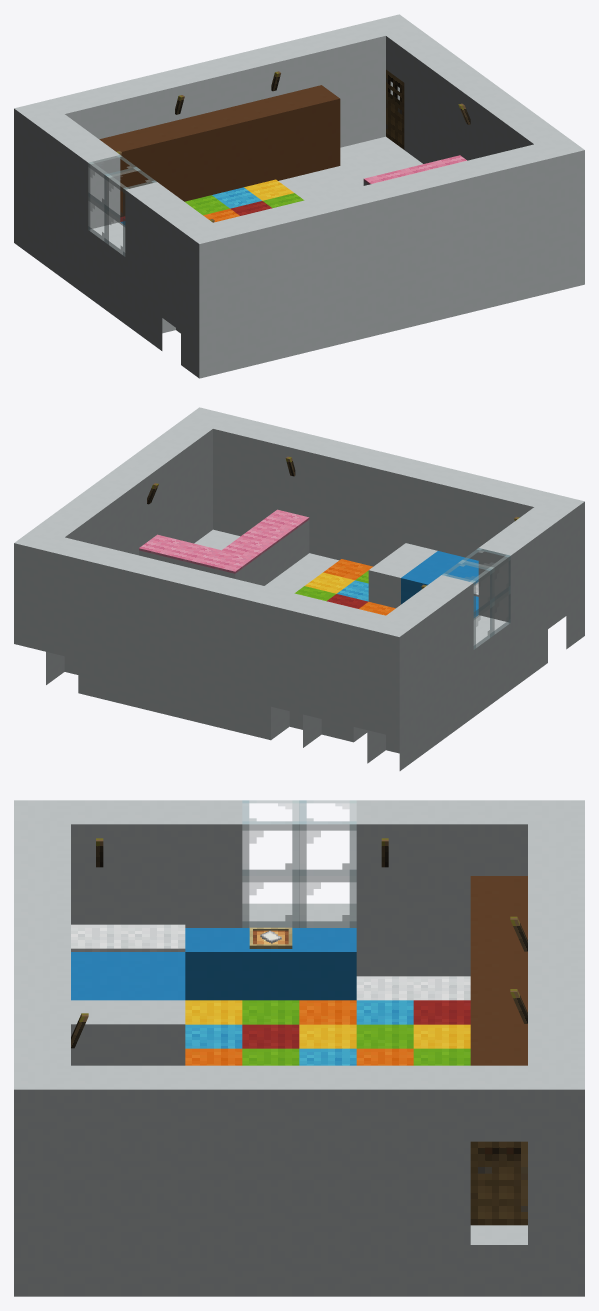
The model's file is Maquete_Joaquim de Souza Dantas.glb.
The picture shows the model from 3 angles, top to bottom: view 1: azimuth 30°, elevation 25°; view 2: azimuth 150°, elevation 25°; view 3: azimuth 270°, elevation 25°; orthographic projection. The views are drawn at different scales.
Parts seen in each view (by area): view 1: node_7, node_4, node_5, node_2; view 2: node_7, node_4, node_5; view 3: node_7, node_4, node_5, node_2, node_6.
Boxes of the visible parts, bbox=[...] form: node_7: bbox=[14, 30, 520, 378]; node_4: bbox=[335, 14, 584, 299]; node_5: bbox=[88, 155, 156, 256]; node_2: bbox=[386, 69, 404, 149]; node_7: bbox=[78, 423, 584, 770]; node_4: bbox=[14, 407, 263, 684]; node_5: bbox=[442, 548, 510, 649]; node_7: bbox=[14, 800, 584, 1154]; node_4: bbox=[14, 1041, 584, 1296]; node_5: bbox=[242, 800, 356, 927]; node_2: bbox=[470, 1141, 527, 1225]; node_6: bbox=[71, 838, 527, 1048].
Size of the model in its own units: 12 by 4 by 10.
Materials: 4 (3 with a texture image).
